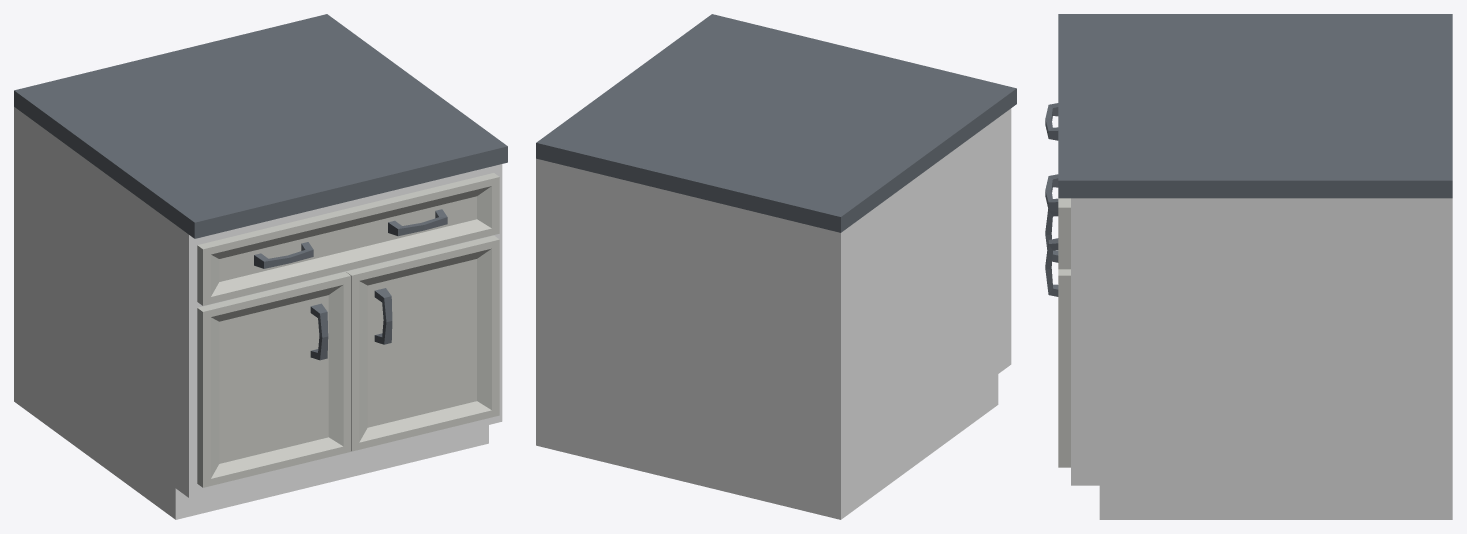
Rendered from Kitchen_Counter.FBX.
3 renders of one model, left to right at view 1: azimuth 30°, elevation 25°; view 2: azimuth 150°, elevation 25°; view 3: azimuth 270°, elevation 25°, orthographic. The views are drawn at different scales.
Parts seen in each view (by area): view 1: Kitchen_Counter; view 2: Kitchen_Counter; view 3: Kitchen_Counter.
Boxes of the visible parts, x1,y1,x2,y2 form: Kitchen_Counter: [14, 14, 507, 519]; Kitchen_Counter: [536, 14, 1016, 519]; Kitchen_Counter: [1045, 14, 1452, 519].
Bounding box in the file's own units: 100 × 94.96 × 103.
